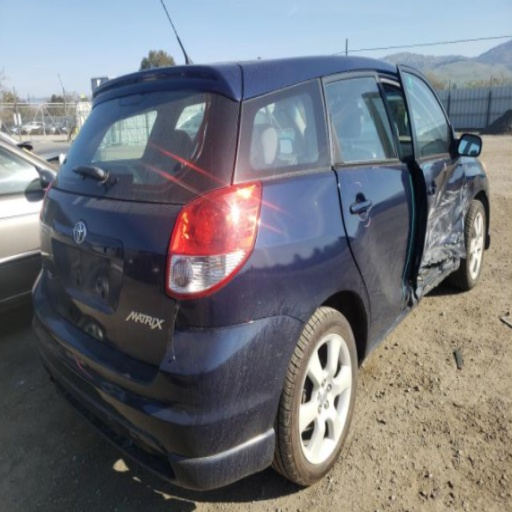dent: (415, 154, 480, 301), (358, 197, 407, 306)
scratch: (421, 261, 456, 293), (423, 238, 463, 263), (428, 223, 454, 250), (444, 183, 472, 195), (428, 208, 446, 226), (439, 195, 456, 208)
